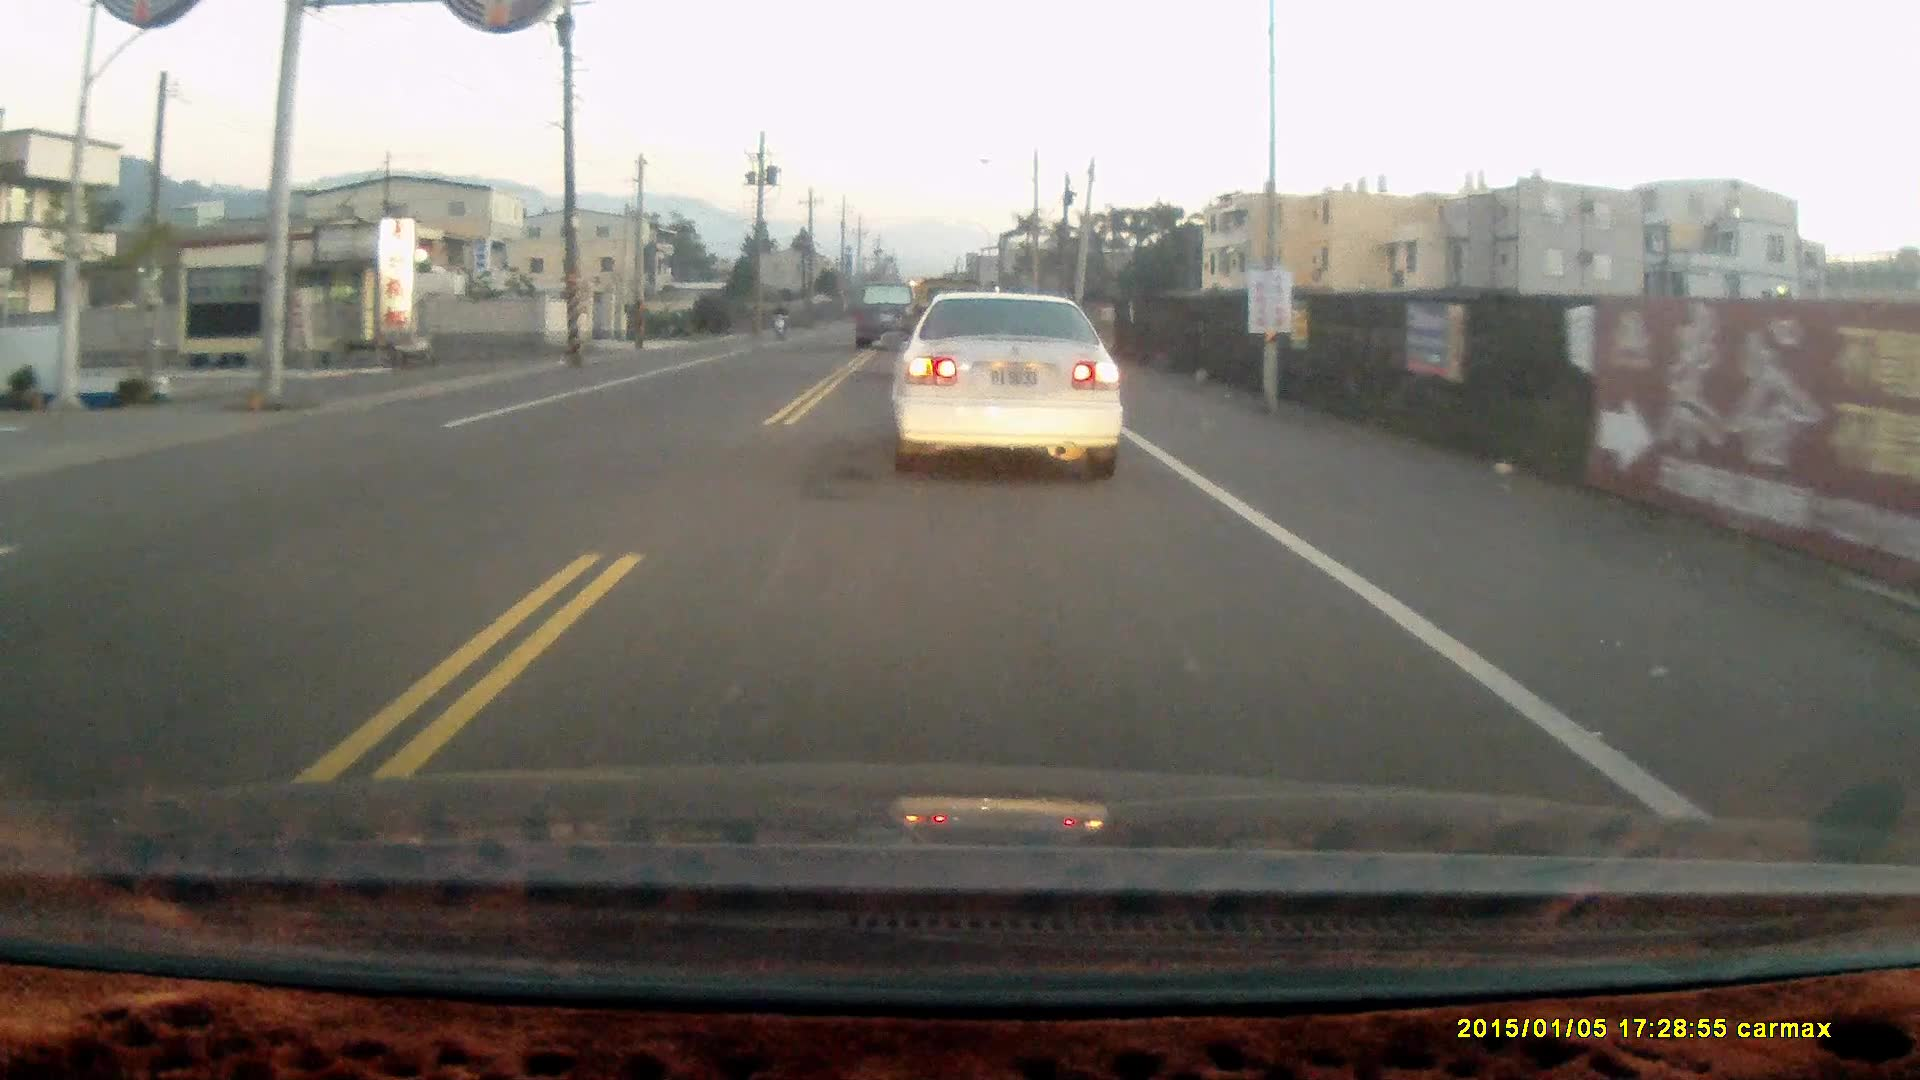rider: (768, 298, 789, 342)
vehicle: (886, 291, 1130, 483), (852, 278, 923, 352)
